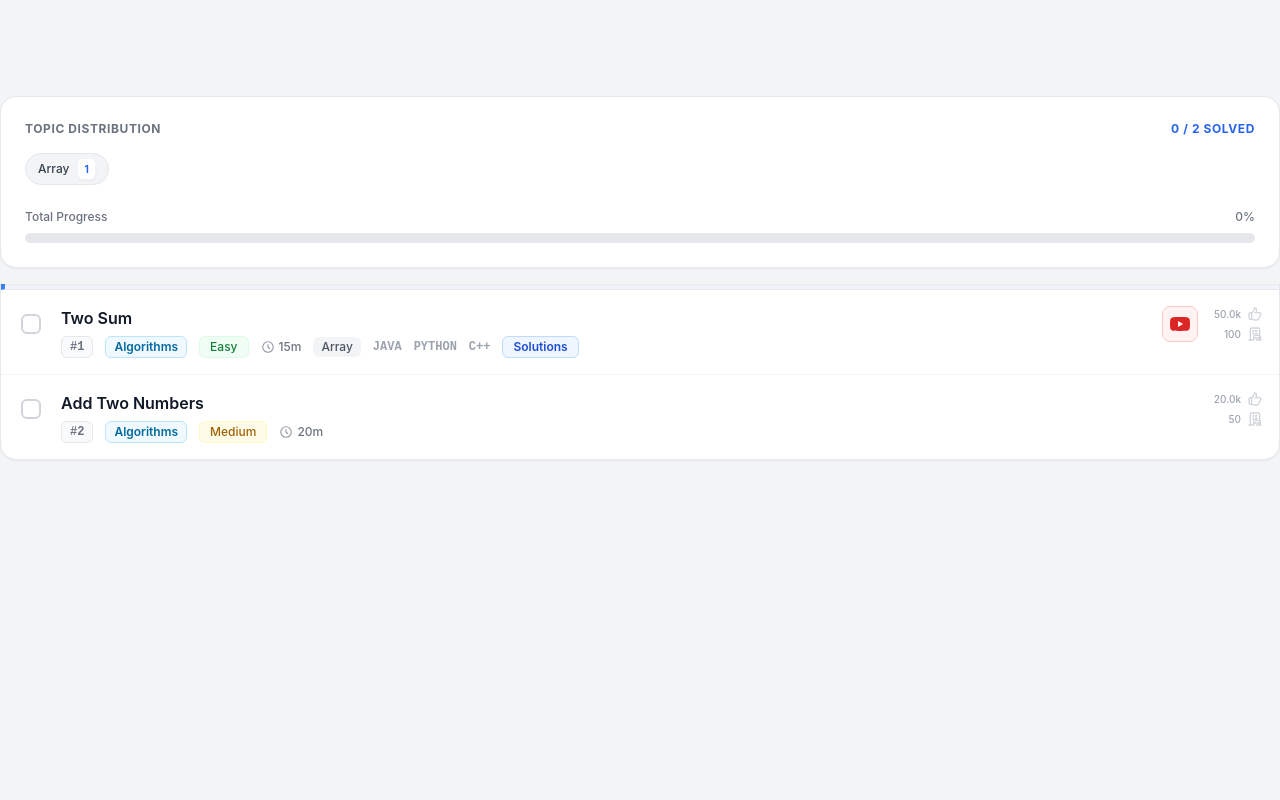
ScheduleView Component › shows the Solutions action only for mapped problem IDs
This screenshot has width=1280, height=800.
Click the button "Solutions" at (541, 347), box x1=502 y1=336 x2=579 y2=358
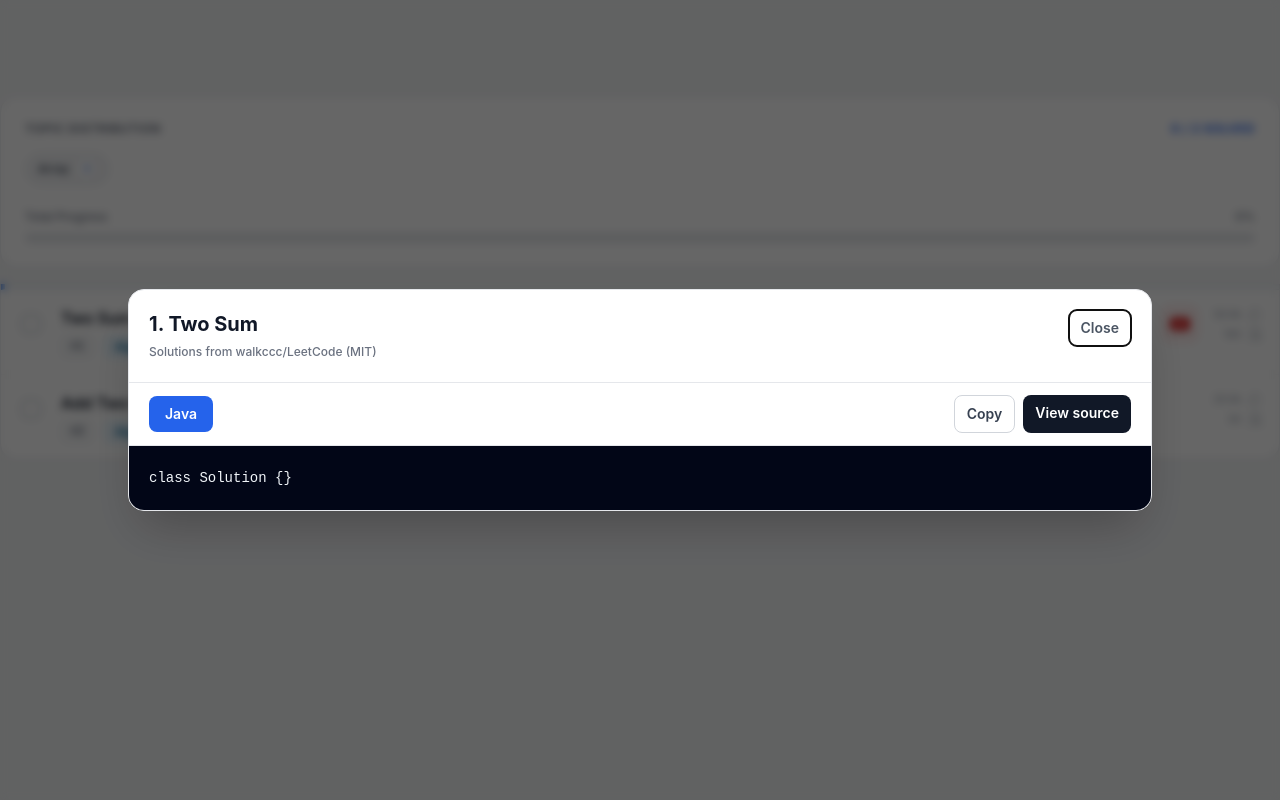
Result: the dialog "1. Two Sum" is shown at x1=128 y1=289 x2=1152 y2=511
